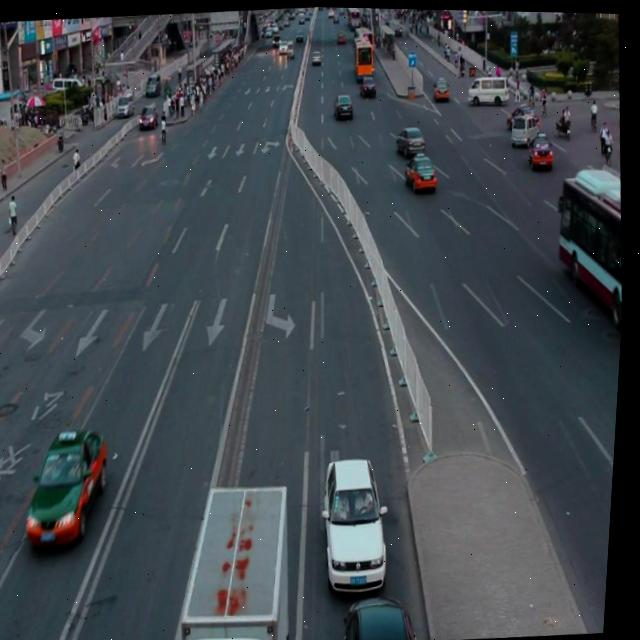bus: (177, 477, 303, 640)
car: (25, 422, 119, 549), (321, 450, 399, 595), (347, 586, 425, 640), (402, 150, 439, 190)
van: (550, 168, 633, 331)
